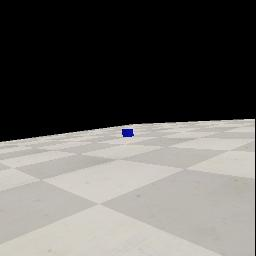box: (122, 129, 134, 137)
